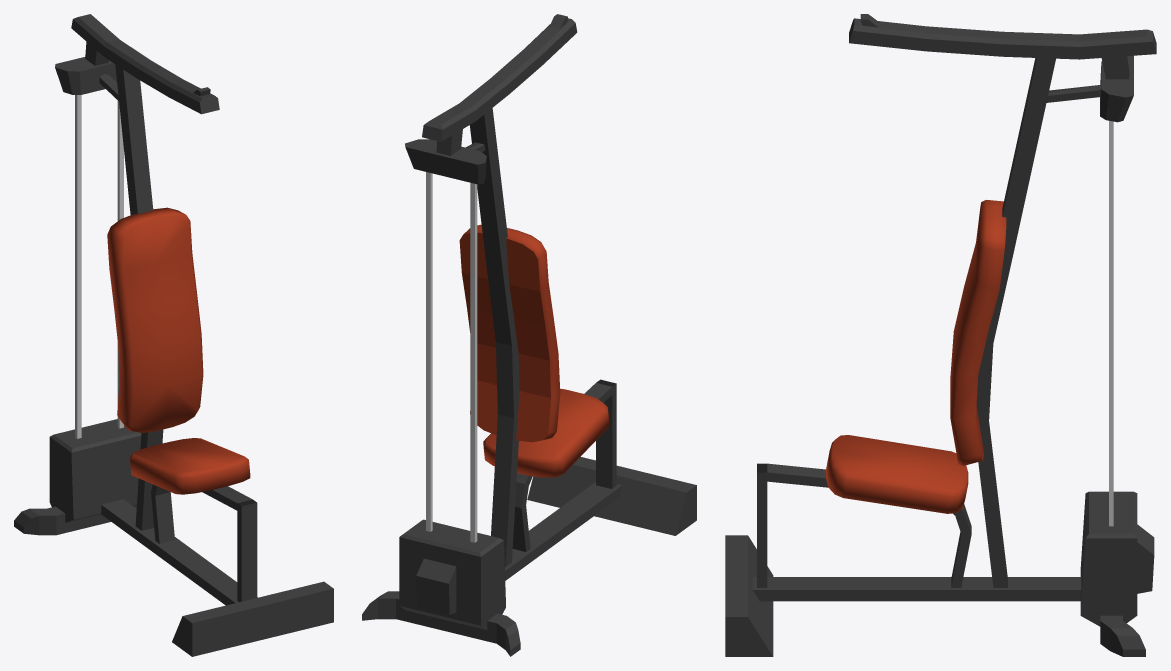
The model's file is emachine_5.glb.
3 renders of one model, left to right at view 1: azimuth 30°, elevation 25°; view 2: azimuth 150°, elevation 25°; view 3: azimuth 270°, elevation 25°, orthographic. The views are drawn at different scales.
Parts seen in each view (by area): view 1: E_Machine_5; view 2: E_Machine_5; view 3: E_Machine_5.
Boxes of the visible parts, box(x1,y1,x2,y2) form: E_Machine_5: box(14, 14, 333, 656); E_Machine_5: box(362, 14, 696, 656); E_Machine_5: box(725, 14, 1156, 656).
Bounding box in the file's own units: 0.6227 × 2.13 × 1.39.
1 material, 1 textured.
